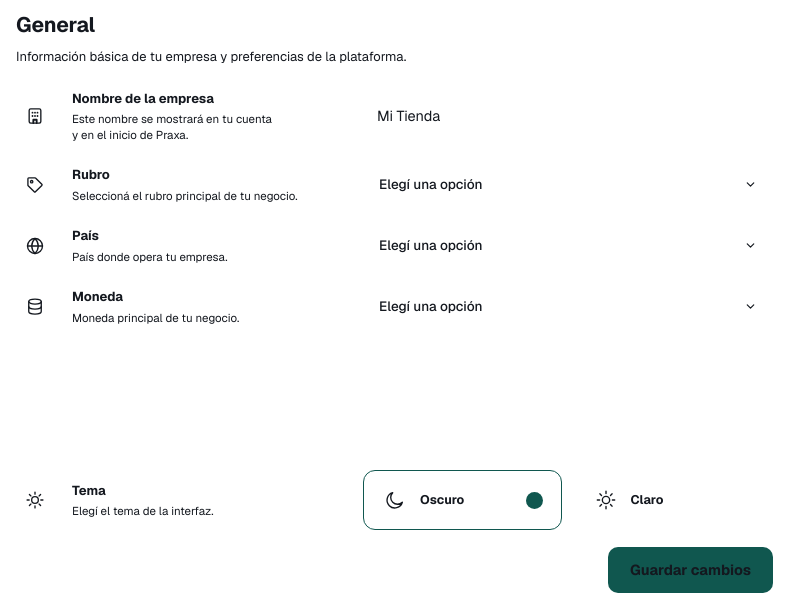
Test: Configuración › muestra el error del servidor como alerta
Click the button "Guardar cambios" at coordinates (690, 570), box [608,547,773,593]
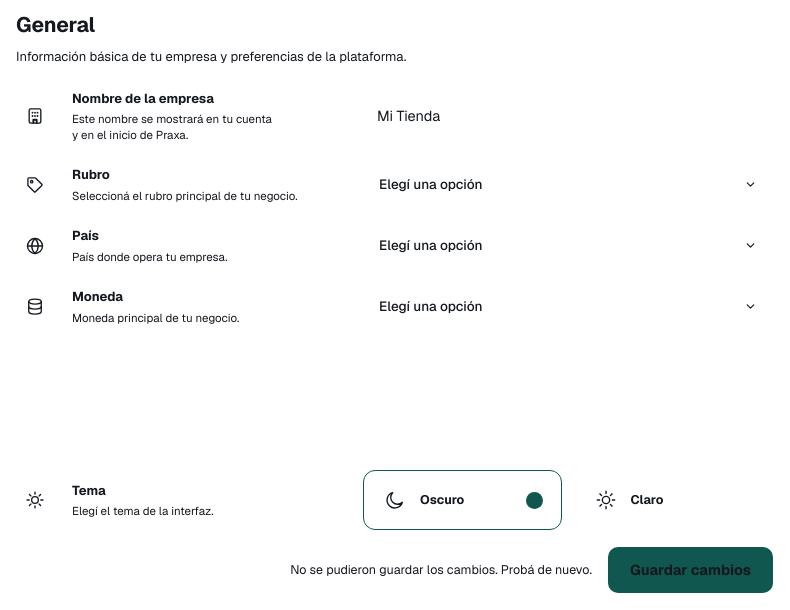
Now the message shows "No se pudieron guardar", box [290,561,592,578]
